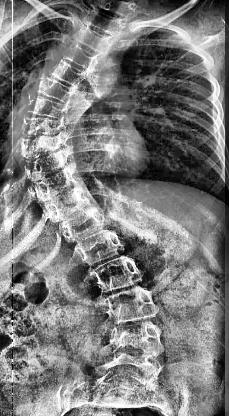Vertebrae: (106, 320, 166, 358), (90, 254, 146, 294), (104, 286, 162, 324), (43, 184, 93, 224), (60, 203, 109, 243), (74, 230, 124, 266), (30, 167, 78, 202), (82, 4, 128, 40), (21, 150, 68, 182), (19, 128, 66, 158), (73, 23, 113, 58), (62, 41, 102, 74), (49, 57, 87, 91), (34, 74, 74, 106), (17, 115, 68, 139), (25, 92, 67, 120)
